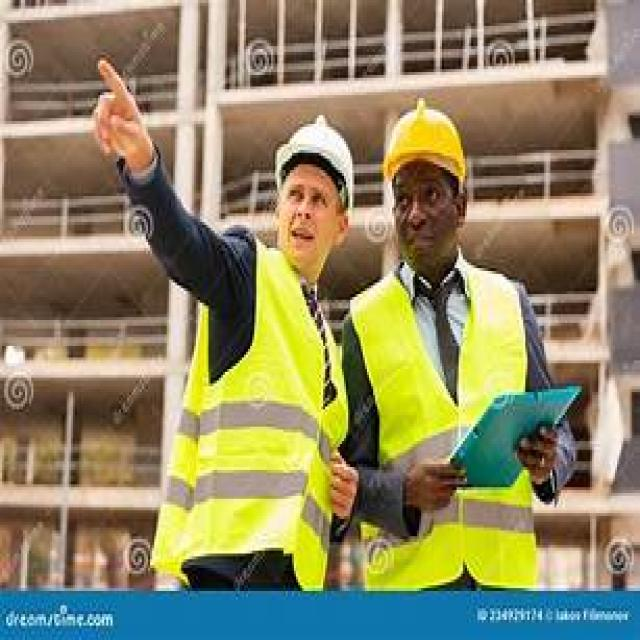not-gloved: (87, 55, 160, 172), (405, 447, 468, 512), (513, 414, 563, 485), (327, 454, 361, 543)
